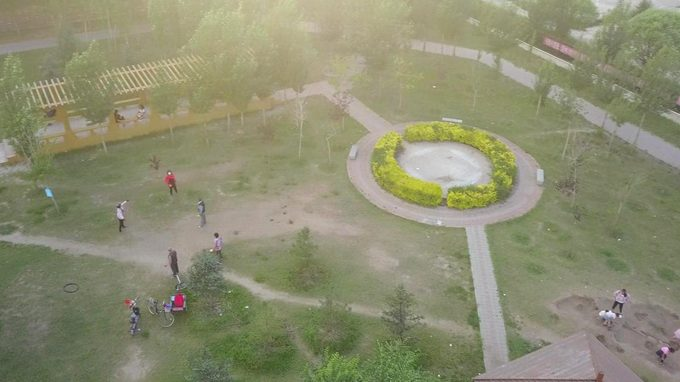bicycle: (146, 296, 175, 328)
motor: (126, 296, 141, 336)
pedestrian: (609, 288, 631, 314), (116, 199, 130, 234), (210, 232, 224, 265), (164, 169, 179, 196), (167, 247, 179, 279), (655, 347, 674, 365), (197, 196, 207, 229), (603, 310, 620, 328), (671, 321, 680, 345), (598, 309, 610, 321)
people: (114, 109, 125, 127), (136, 105, 146, 123)
tricycle: (167, 275, 189, 315)
